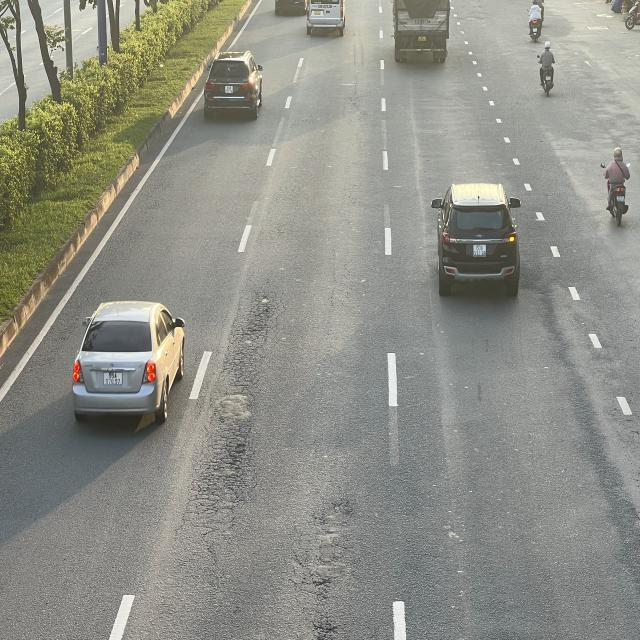car: (72, 298, 188, 428), (432, 182, 524, 297), (203, 50, 262, 118)
truck: (390, 0, 450, 62)
van: (304, 0, 346, 35)
